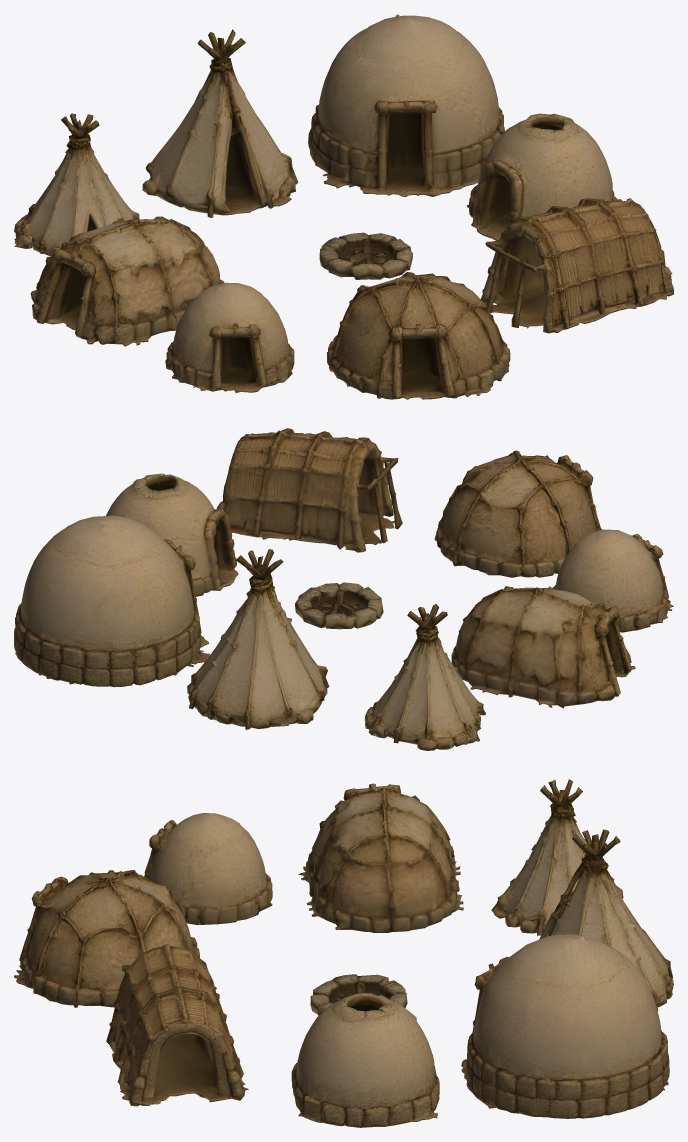
Rendered from Prehistoric Village (Middle Eastern).fbx.
3 renders of one model, top to bottom at view 1: azimuth 30°, elevation 25°; view 2: azimuth 150°, elevation 25°; view 3: azimuth 270°, elevation 25°, orthographic. The views are drawn at different scales.
Visible parts, largest first — view 1: tripo_node_a01c9e5e; view 2: tripo_node_a01c9e5e; view 3: tripo_node_a01c9e5e.
Part boxes in pixels (x1=…): tripo_node_a01c9e5e: x1=14, y1=14, x2=673, y2=399; tripo_node_a01c9e5e: x1=14, y1=428, x2=673, y2=750; tripo_node_a01c9e5e: x1=14, y1=779, x2=673, y2=1127.
Size of the model in its own units: 1 by 0.2589 by 0.9888.
